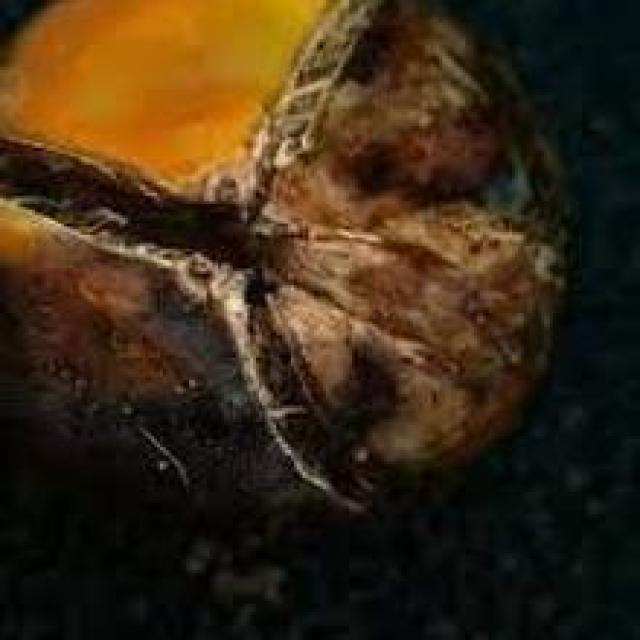damaged: (0, 0, 567, 509)
